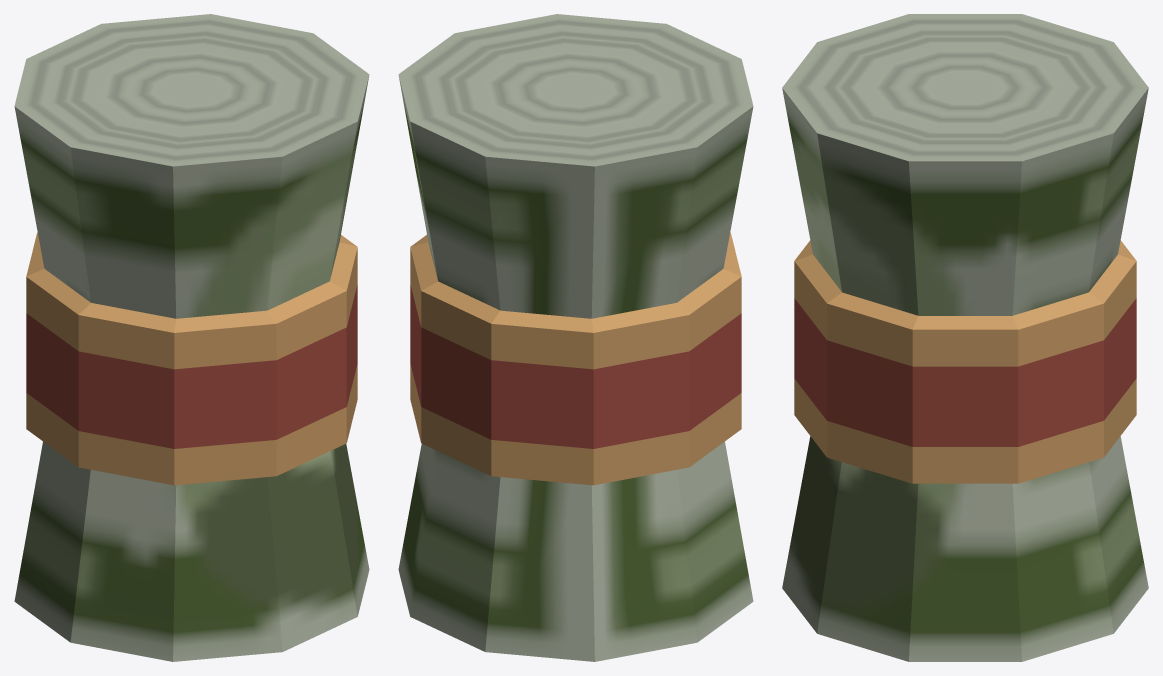
File: SM_Prop_Money_Roll_02.obj
3 renders of one model, left to right at view 1: azimuth 30°, elevation 25°; view 2: azimuth 150°, elevation 25°; view 3: azimuth 270°, elevation 25°, orthographic.
Visible parts, largest first — view 1: SM_Prop_Money_Roll_02_0; view 2: SM_Prop_Money_Roll_02_0; view 3: SM_Prop_Money_Roll_02_0.
Boxes of the visible parts, x1=… form: SM_Prop_Money_Roll_02_0: x1=14, y1=14, x2=369, y2=661; SM_Prop_Money_Roll_02_0: x1=398, y1=14, x2=753, y2=661; SM_Prop_Money_Roll_02_0: x1=782, y1=14, x2=1148, y2=661.
Size of the model in its own units: 0.0777 by 0.123 by 0.0817.
1 material, 1 textured.
